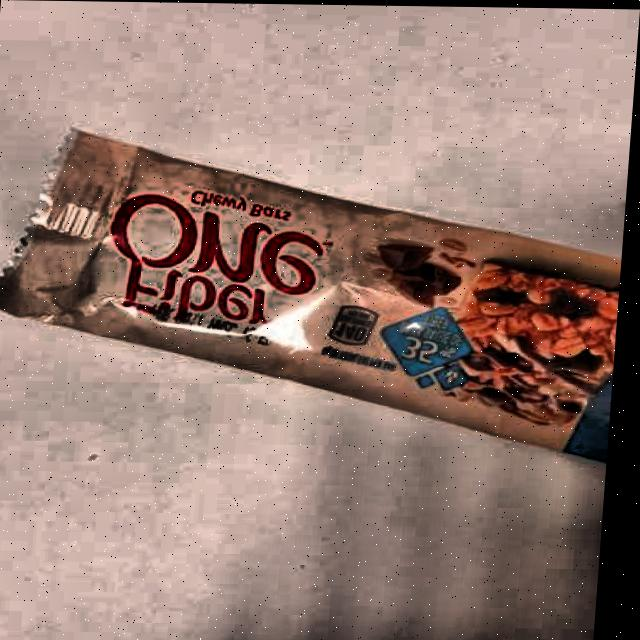plastic: (0, 126, 631, 469)
